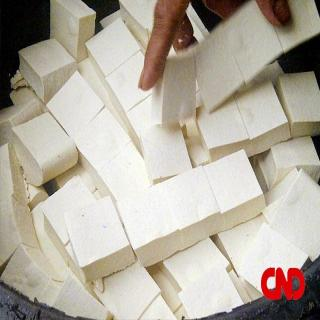Tahu: (115, 142, 269, 263), (62, 190, 139, 284), (9, 106, 86, 188)
